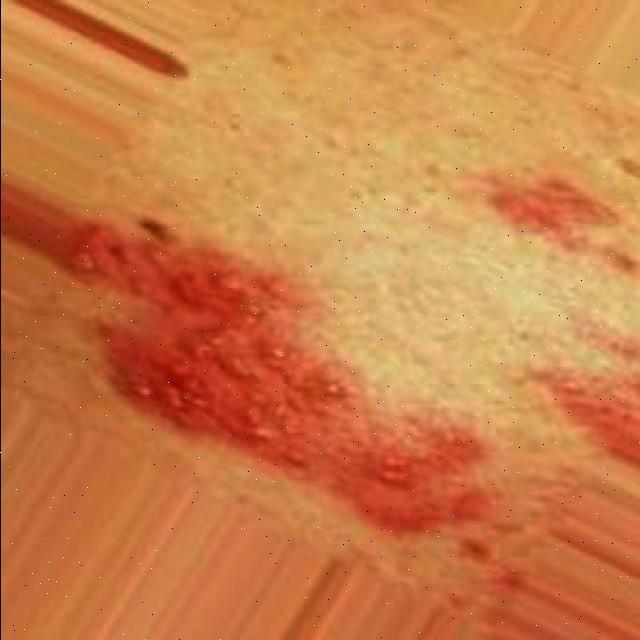Shingles: (72, 218, 494, 538), (515, 312, 640, 447), (477, 172, 639, 276)
